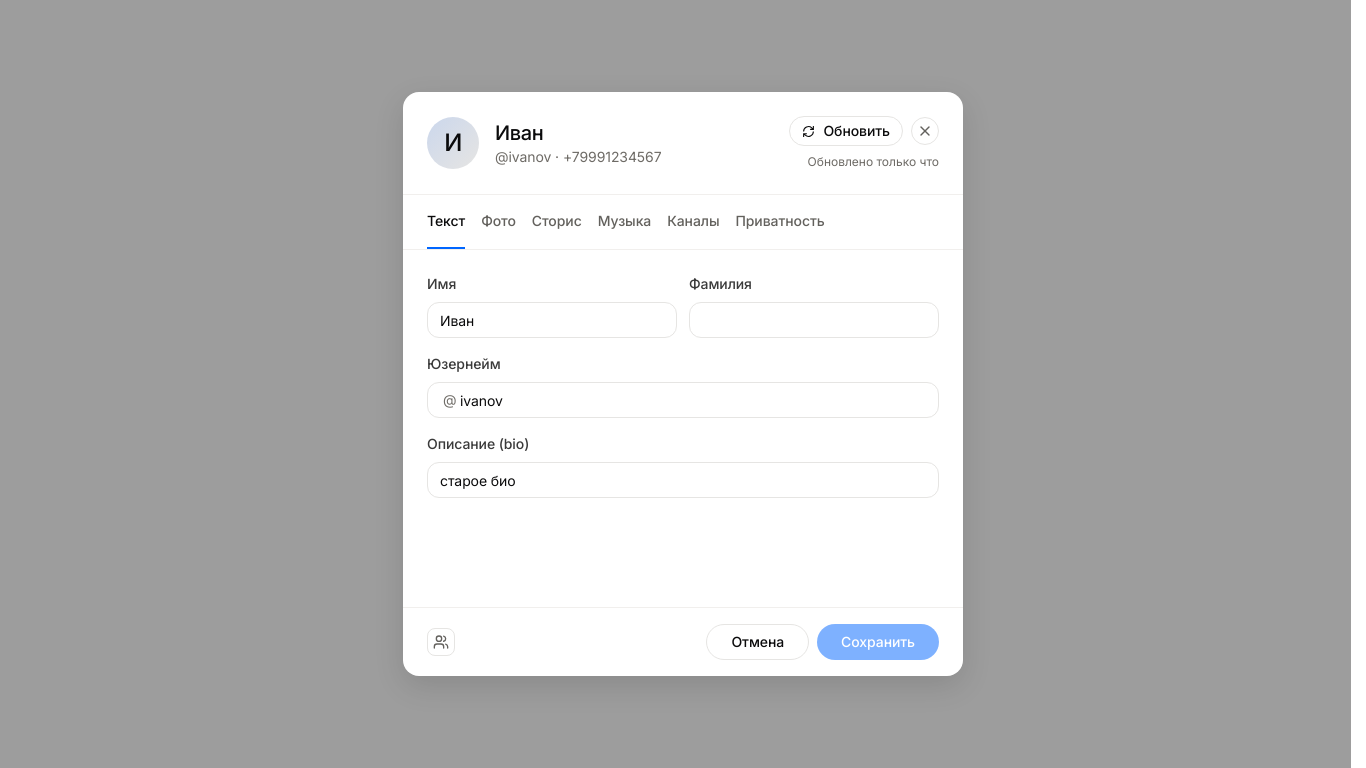
Test case: warns under the bio field when the live pull still reports the old bio
The width and height of the screenshot is (1366, 768).
Replace the text in the text box showing "старое био" with "мой канал @somewhere" at {"x": 683, "y": 480}, box x1=427 y1=462 x2=939 y2=498
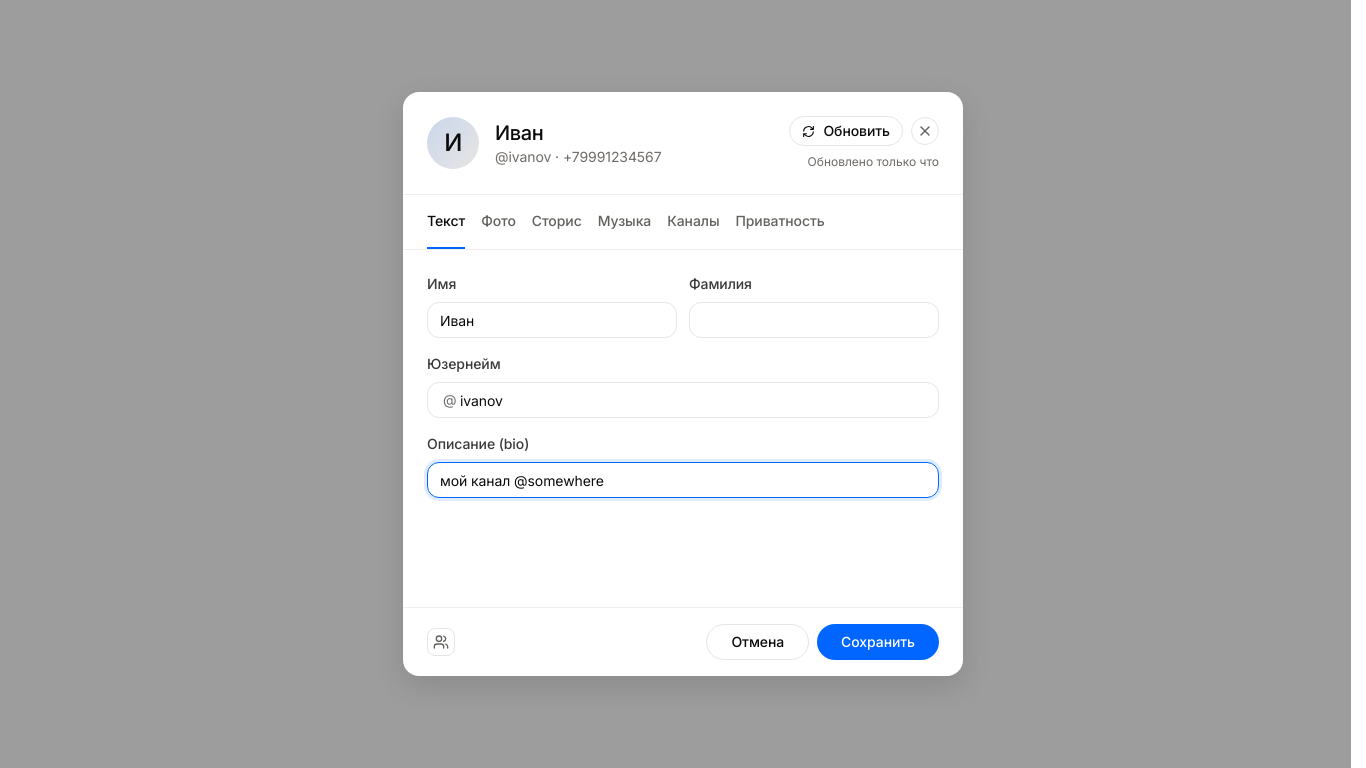
Click the button "Сохранить" at {"x": 878, "y": 642}, box x1=817 y1=624 x2=939 y2=660
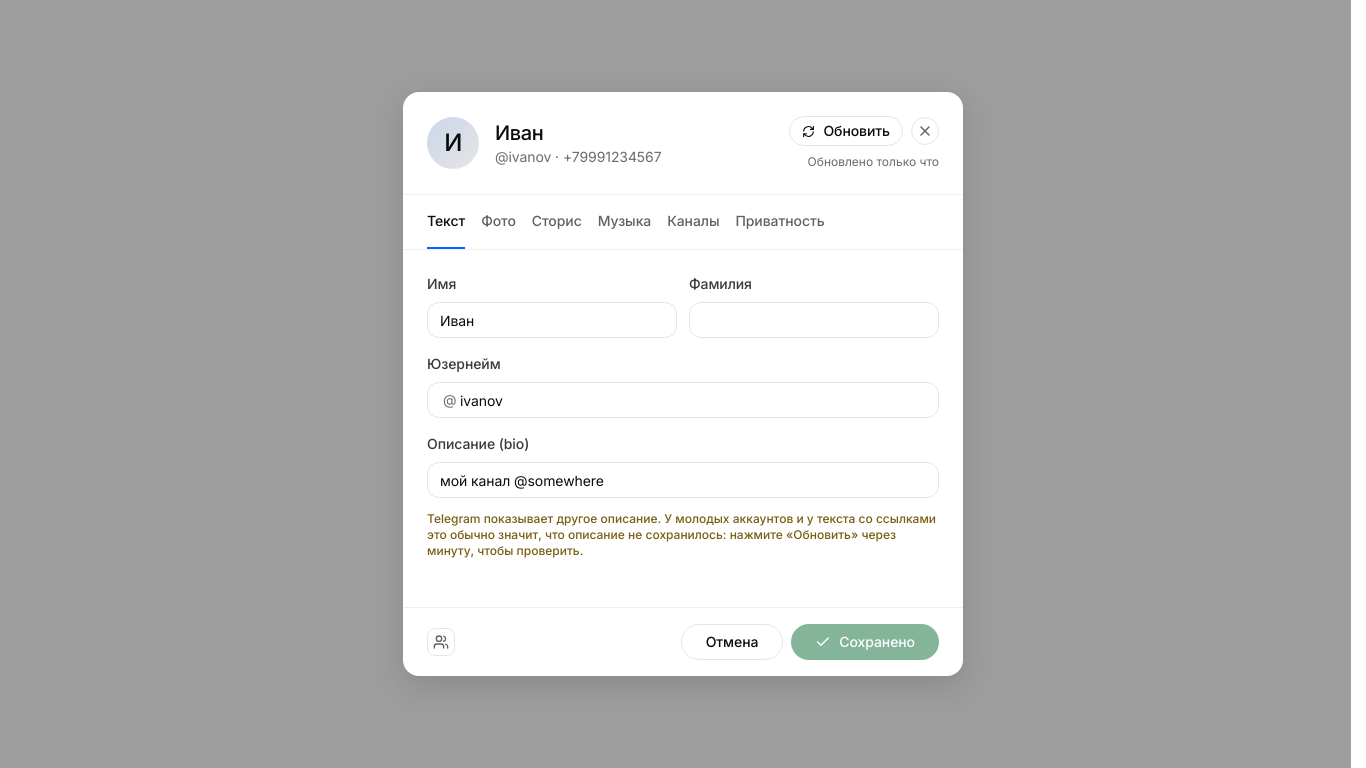
Check: the message with test id "bio-not-applied" is shown, box x1=427 y1=511 x2=939 y2=559
